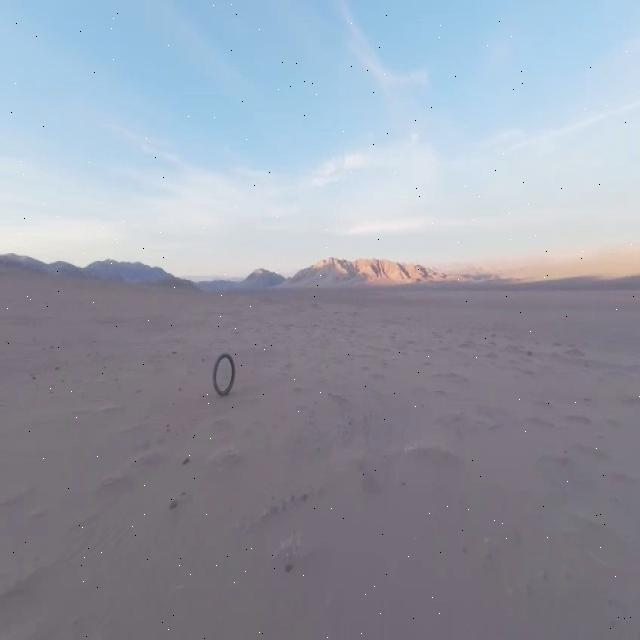Tire: (213, 353, 235, 395)
